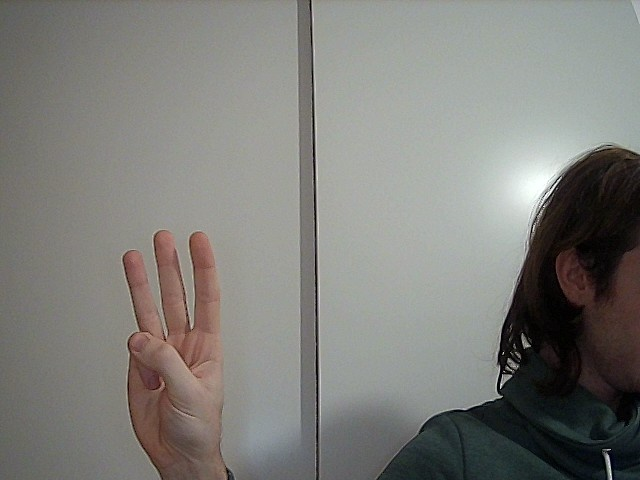w: (97, 205, 247, 457)
